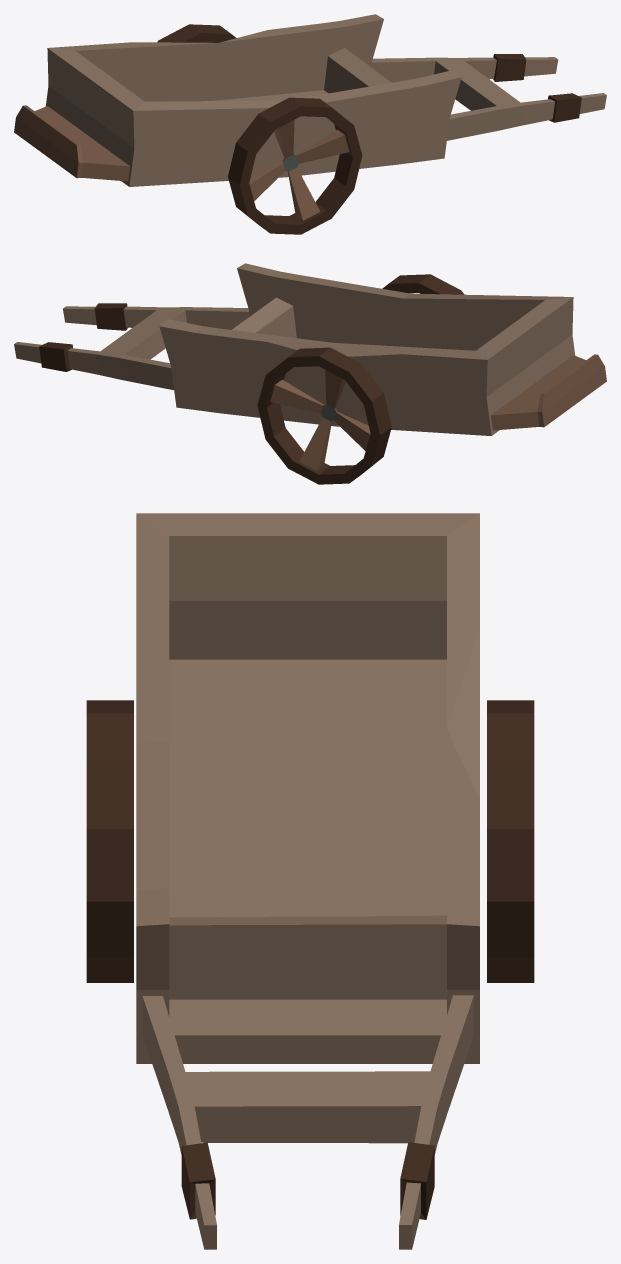
Rendered from gerobak.fbx.
3 renders of one model, top to bottom at view 1: azimuth 30°, elevation 25°; view 2: azimuth 150°, elevation 25°; view 3: azimuth 270°, elevation 25°, orthographic. The views are drawn at different scales.
Parts seen in each view (by area): view 1: Cube.014, Cylinder.001; view 2: Cube.014, Cylinder.001; view 3: Cube.014, Cylinder.001.
Part boxes in pixels (<box>): Cube.014: <box>14,14,606,186</box>; Cylinder.001: <box>157,24,362,234</box>; Cube.014: <box>14,263,606,435</box>; Cylinder.001: <box>257,274,464,484</box>; Cube.014: <box>136,513,479,1249</box>; Cylinder.001: <box>86,700,534,982</box>.
Size of the model in its own units: 360 by 98.01 by 130.
